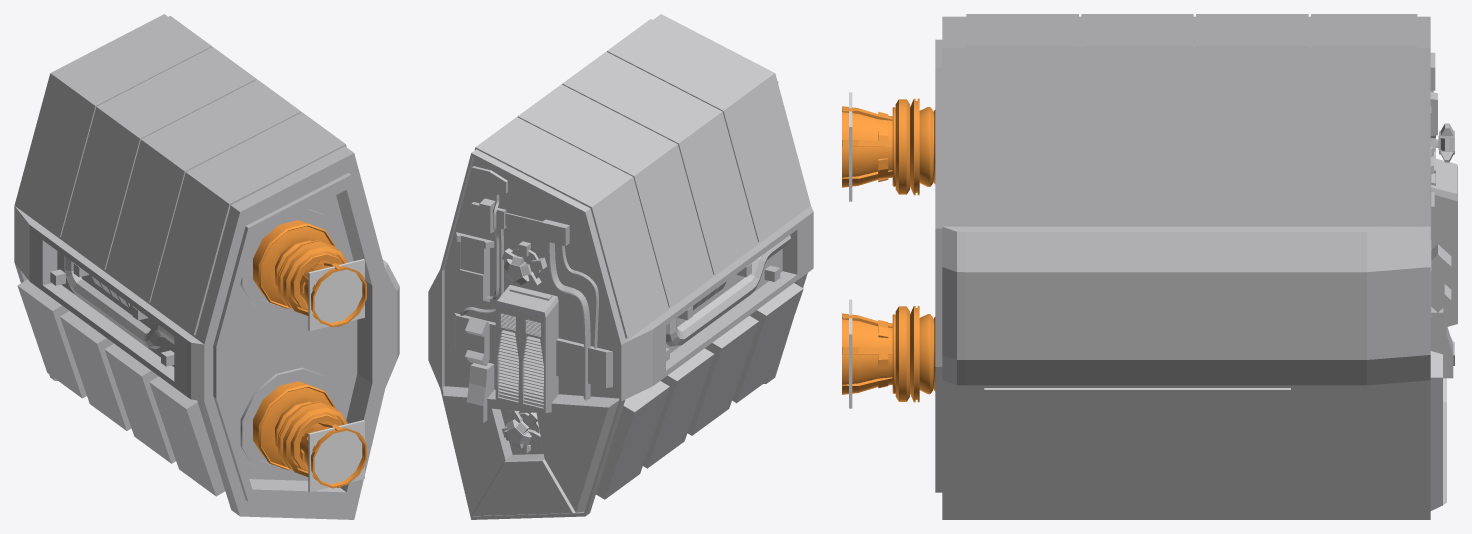
Rendered from Trap-Engine.glb.
3 renders of one model, left to right at view 1: azimuth 30°, elevation 25°; view 2: azimuth 150°, elevation 25°; view 3: azimuth 270°, elevation 25°, orthographic. The views are drawn at different scales.
Parts seen in each view (by area): view 1: Trap-Engine, BottomThruster, TopThruster; view 2: Trap-Engine; view 3: Trap-Engine.
Part boxes in pixels (x1,y1,x2,y2): Trap-Engine: [14, 14, 399, 519]; BottomThruster: [308, 420, 364, 492]; TopThruster: [308, 259, 364, 330]; Trap-Engine: [428, 14, 813, 519]; Trap-Engine: [842, 14, 1457, 519].
Size of the model in its own units: 3.67 by 6.17 by 7.27.
